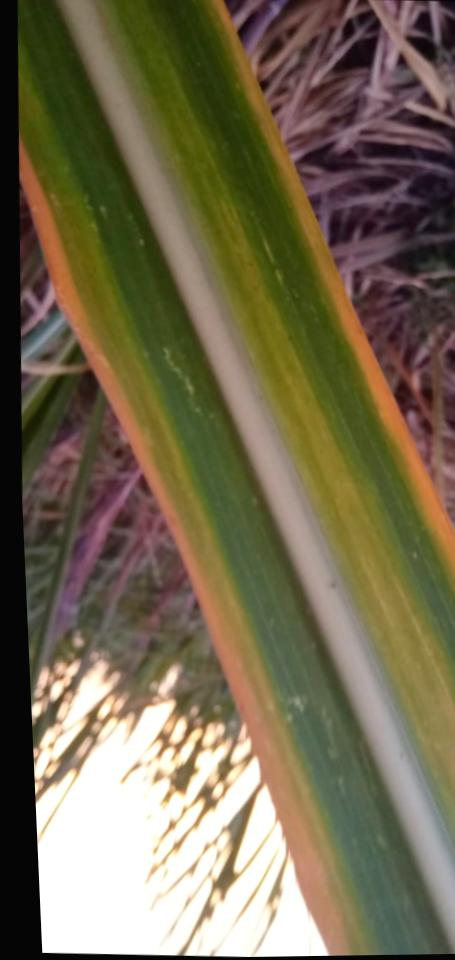Yellow: (18, 132, 349, 956), (211, 0, 455, 585)
